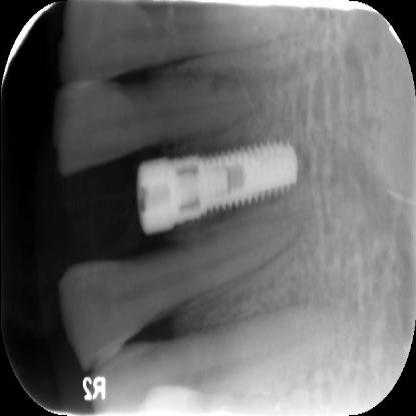Bego: (171, 131, 303, 238)
